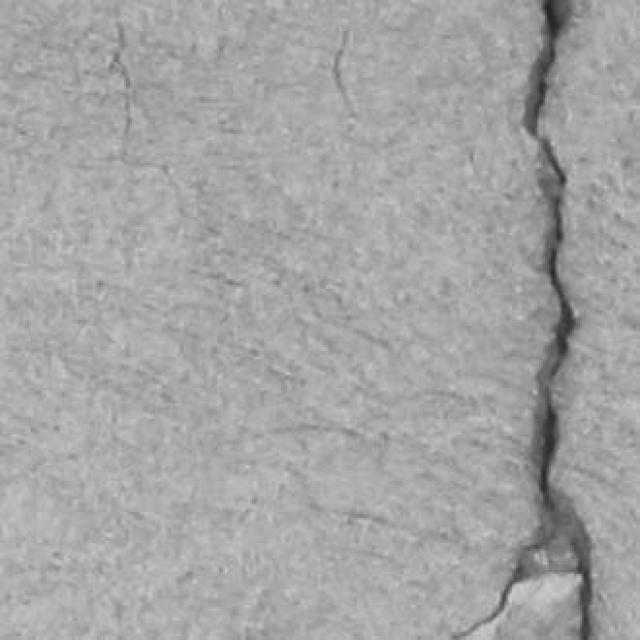crack: (454, 0, 591, 639), (109, 20, 133, 157), (332, 30, 356, 118)
